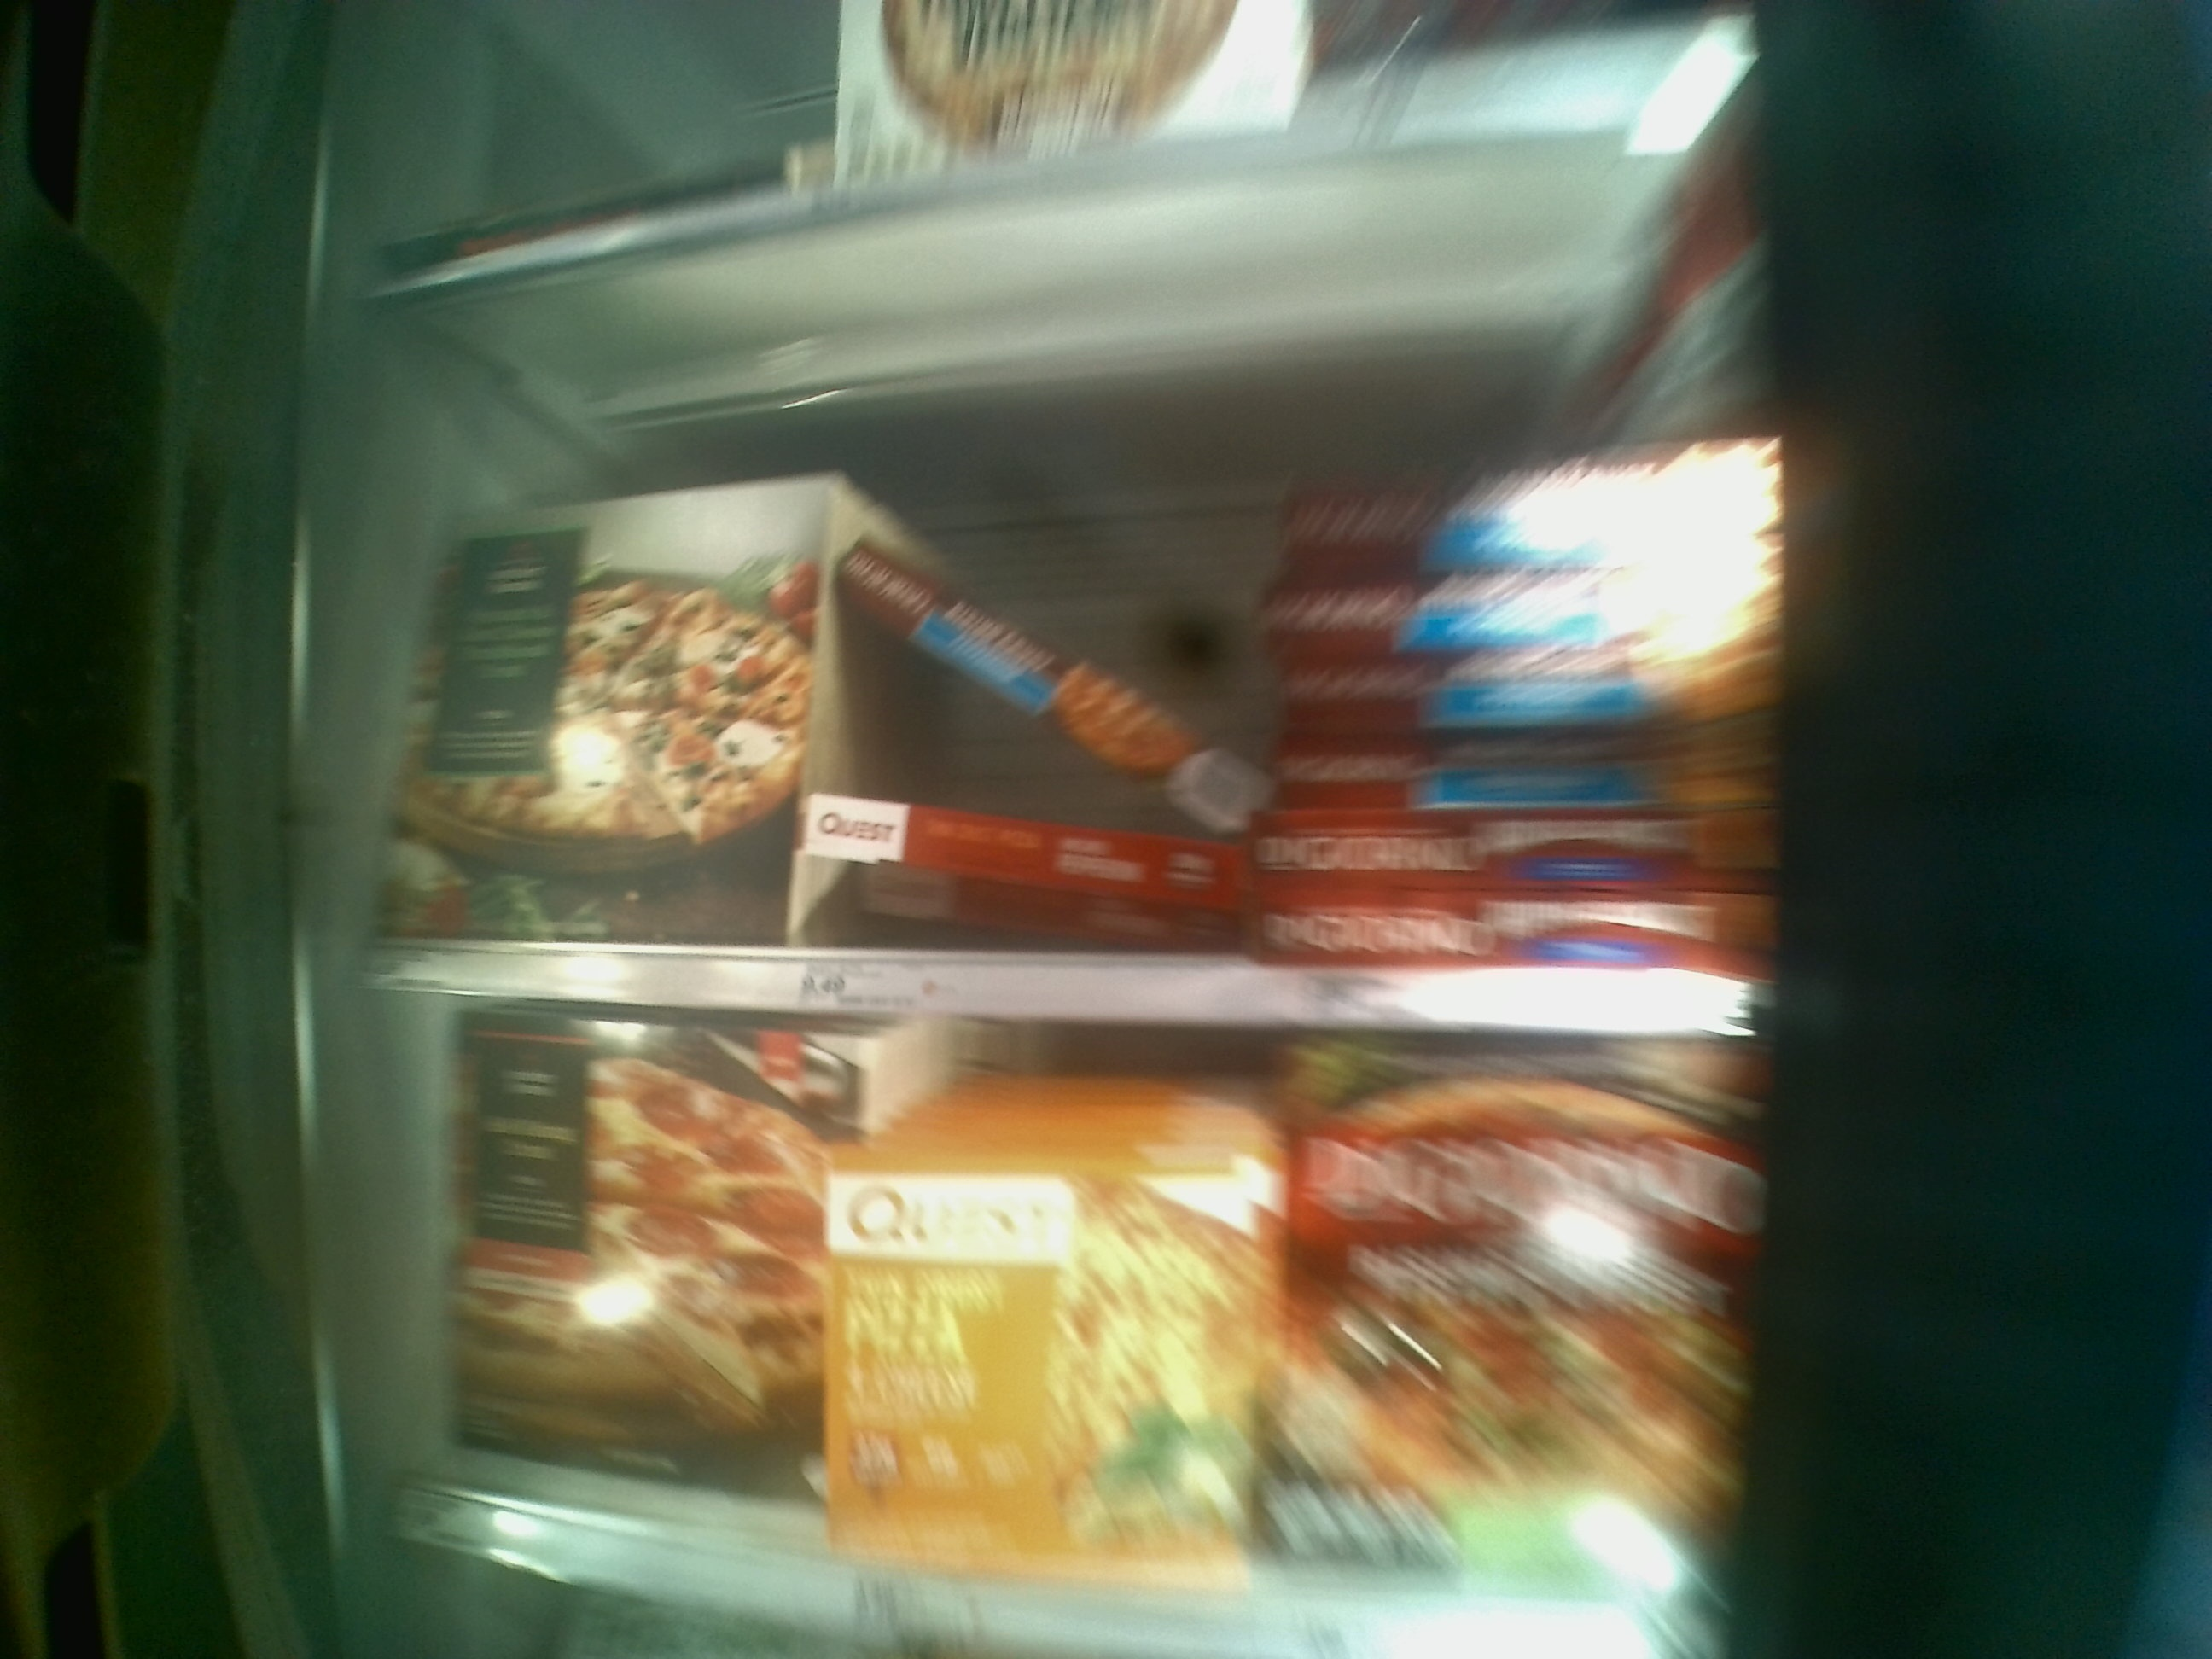pizza: (1305, 1105, 1747, 1615), (397, 486, 817, 943), (432, 1023, 817, 1497), (810, 1180, 1245, 1563), (833, 552, 1240, 812), (1277, 484, 1761, 575), (808, 793, 1251, 885), (841, 878, 1251, 964), (1261, 885, 1766, 950), (1275, 746, 1771, 807), (1280, 580, 1743, 643), (1289, 669, 1731, 734), (1254, 819, 1763, 875)
